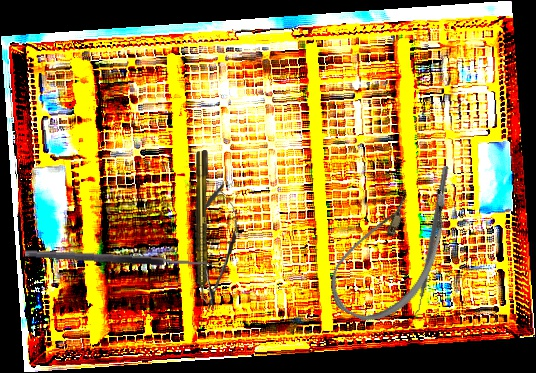Cannula: (319, 163, 465, 338)
Handpiece: (195, 150, 209, 303)
Hook Surgical: (24, 239, 221, 270)
Micro Scissor: (191, 182, 242, 313)
Spatula Surgical: (410, 164, 449, 320)
